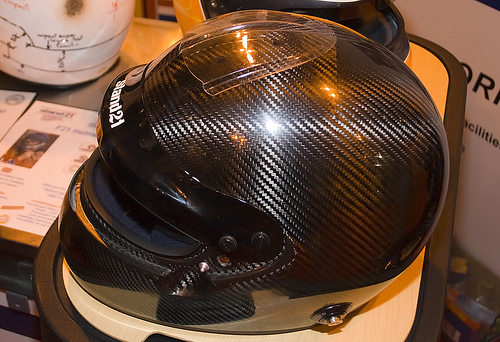helmet: (79, 39, 435, 313)
